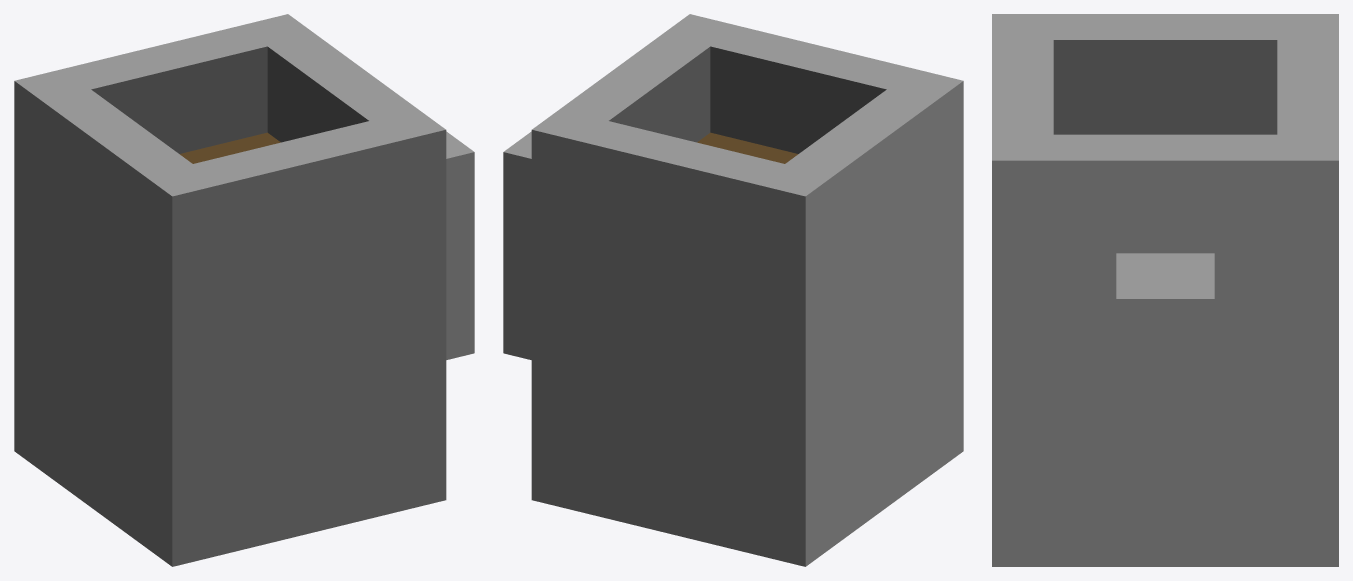
File: SO_CoffeeCup_01.fbx
The picture shows the model from 3 angles, left to right: view 1: azimuth 30°, elevation 25°; view 2: azimuth 150°, elevation 25°; view 3: azimuth 270°, elevation 25°; orthographic projection. The views are drawn at different scales.
Parts seen in each view (by area): view 1: SO_CoffeeCup_01; view 2: SO_CoffeeCup_01; view 3: SO_CoffeeCup_01.
Boxes of the visible parts, x1,y1,x2,y2 form: SO_CoffeeCup_01: (14, 14, 474, 566); SO_CoffeeCup_01: (503, 14, 963, 566); SO_CoffeeCup_01: (992, 14, 1338, 566).
Size of the model in its own units: 0.2731 by 0.2694 by 0.2083.
